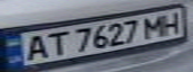2: (106, 19, 127, 47)
6: (90, 21, 112, 51)
7: (69, 25, 93, 53), (121, 17, 145, 44)
A: (18, 33, 51, 62)
H: (157, 10, 187, 35)
M: (139, 12, 172, 38)
T: (39, 29, 69, 57)
